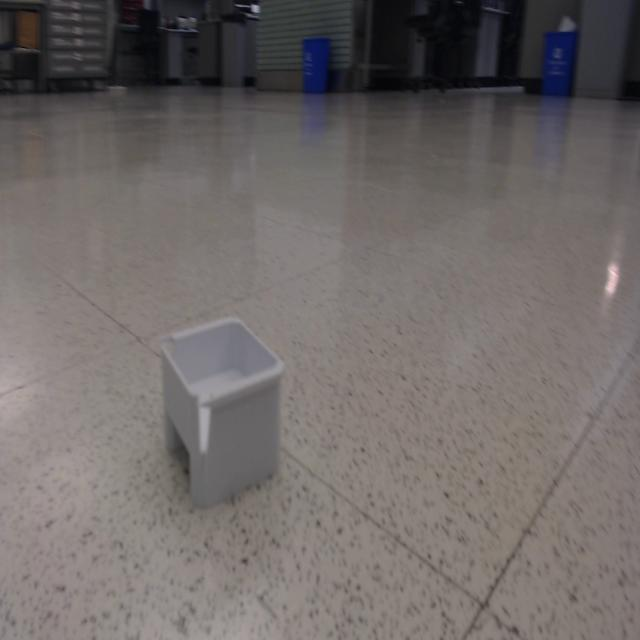wbox: (157, 309, 287, 509)
